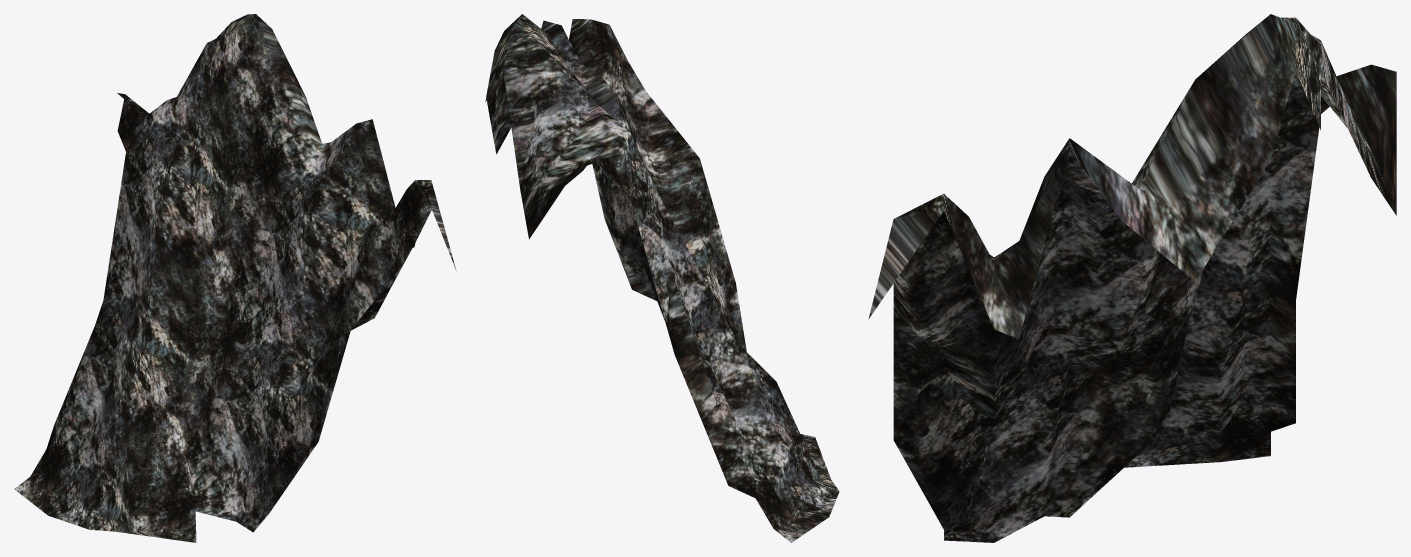
File: OVERHILL_A_01_OBJECT10.fbx
The picture shows the model from 3 angles, left to right: view 1: azimuth 30°, elevation 25°; view 2: azimuth 150°, elevation 25°; view 3: azimuth 270°, elevation 25°; orthographic projection. The views are drawn at different scales.
Parts seen in each view (by area): view 1: OVERHILL_A_01_OBJECT10; view 2: OVERHILL_A_01_OBJECT10; view 3: OVERHILL_A_01_OBJECT10.
Part boxes in pixels (box(x1,y1,x2,y2)): OVERHILL_A_01_OBJECT10: box(14, 14, 456, 542); OVERHILL_A_01_OBJECT10: box(485, 14, 839, 542); OVERHILL_A_01_OBJECT10: box(868, 14, 1396, 542).
Bounding box in the file's own units: 260387 × 338849 × 261770.
Materials: 1 (1 with a texture image).
